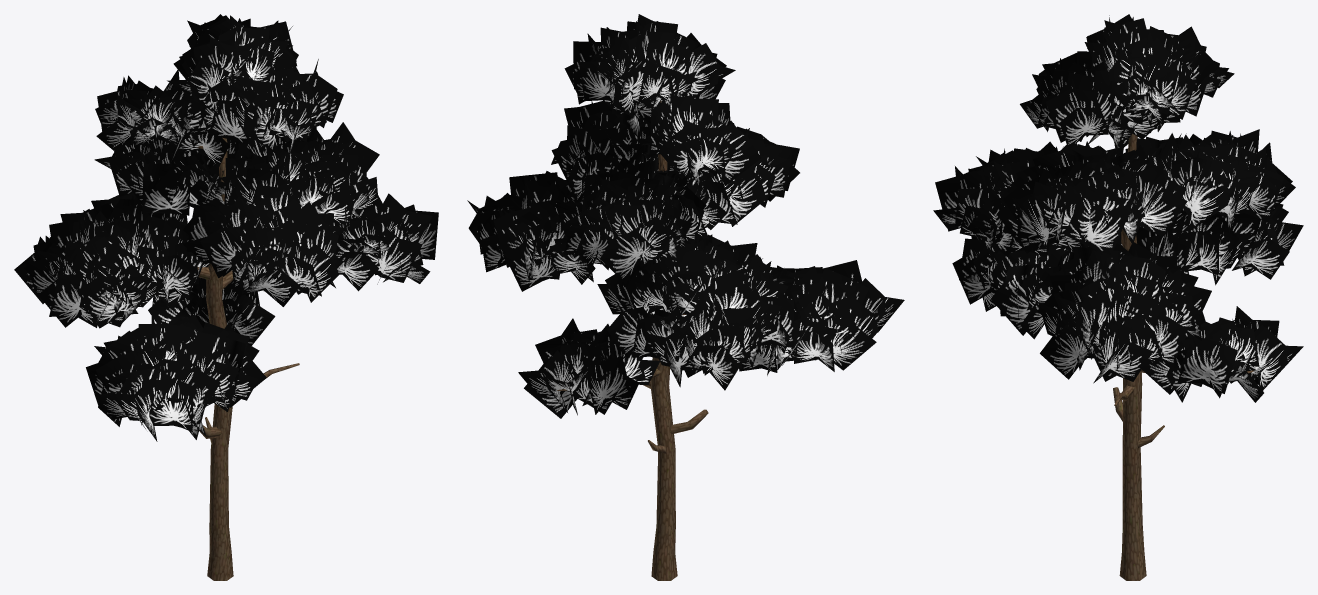
The model's file is P_ChinaPine03.obj.
3 renders of one model, left to right at view 1: azimuth 30°, elevation 25°; view 2: azimuth 150°, elevation 25°; view 3: azimuth 270°, elevation 25°, orthographic. The views are drawn at different scales.
Bounding box in the file's own units: 15.45 × 21.56 × 12.81.
